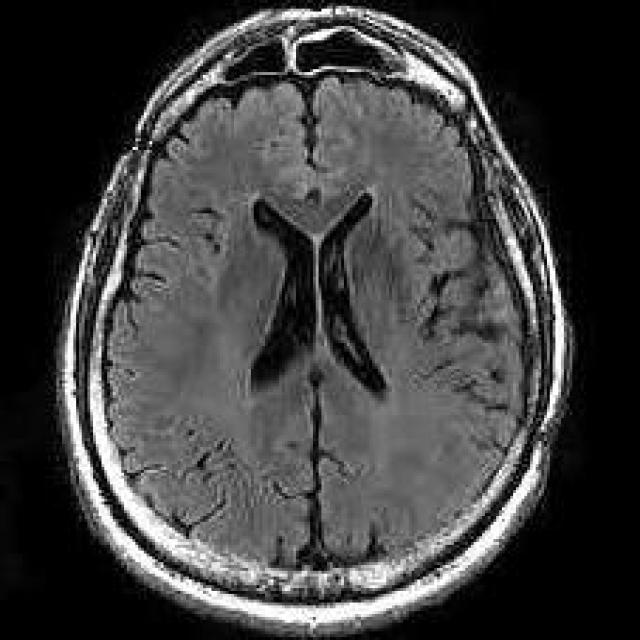no-tumor: (179, 149, 468, 477)
